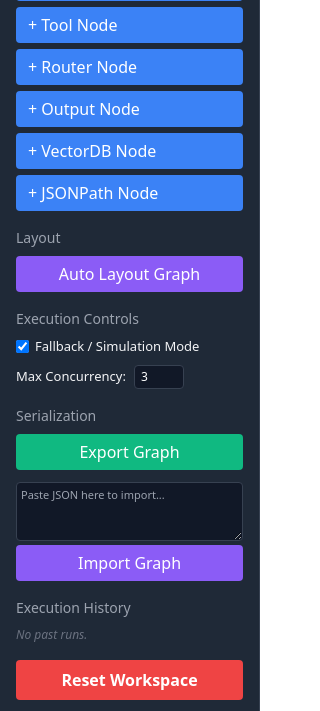
Scenario: Sidebar Component › handles export properly
(page scrolled)
Click the button with test id "export-btn": (130, 452) [16,434,243,470]
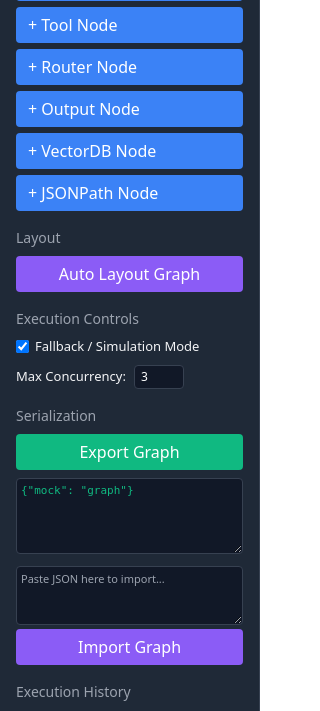
Expected: the text box with test id "serialized-output" is shown, [16,478,243,554]
